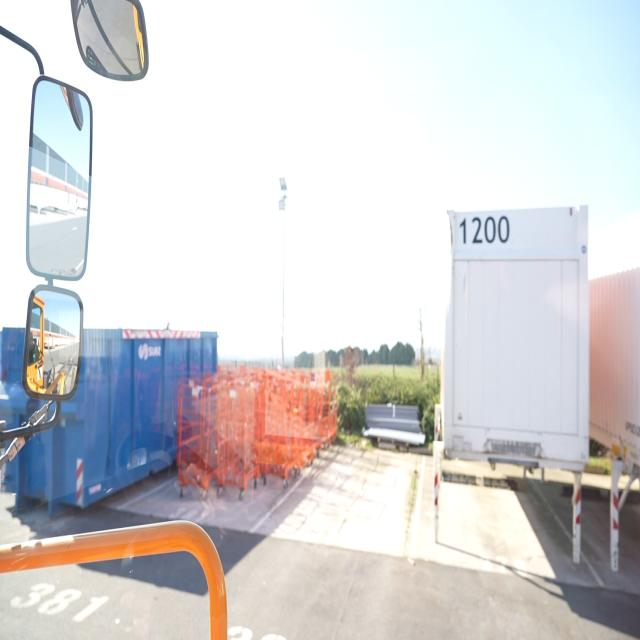Code: (457, 210, 514, 251)
